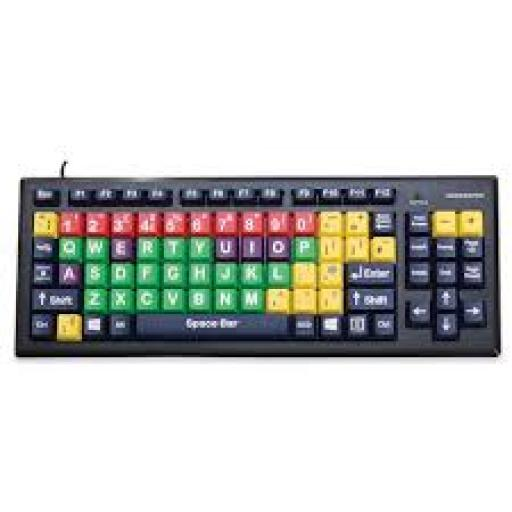KEYBOARD-2: (18, 175, 498, 355)
